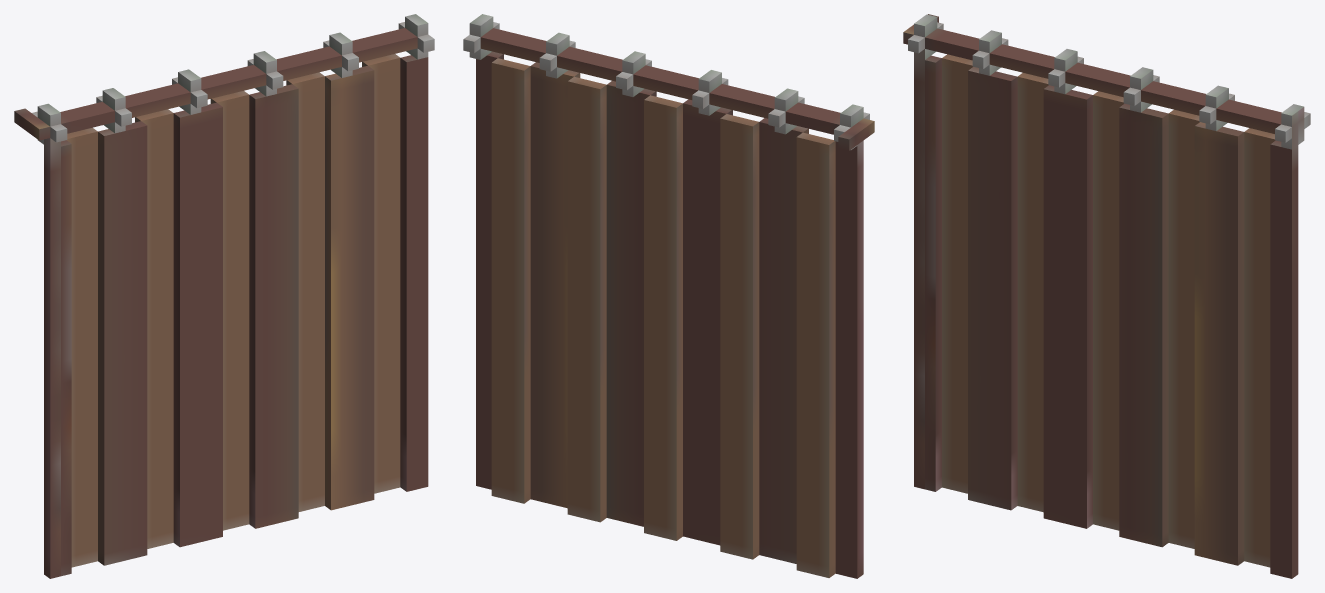
Rendered from CurtainBrown_00.obj.
3 renders of one model, left to right at view 1: azimuth 30°, elevation 25°; view 2: azimuth 150°, elevation 25°; view 3: azimuth 330°, elevation 25°, orthographic.
Visible parts, largest first — view 1: CurtainBrown_00; view 2: CurtainBrown_00; view 3: CurtainBrown_00.
Boxes of the visible parts, x1,y1,x2,y2 form: CurtainBrown_00: [14, 14, 434, 578]; CurtainBrown_00: [463, 14, 874, 578]; CurtainBrown_00: [903, 14, 1310, 578].
Size of the model in its own units: 1.8 by 2.05 by 0.25.
